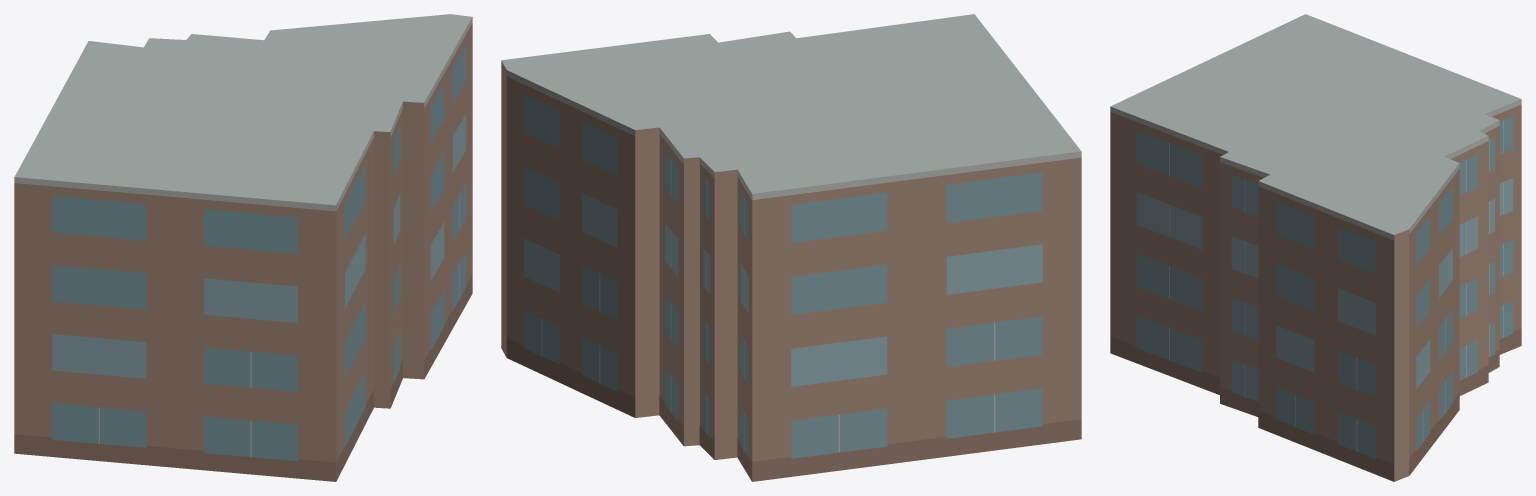
File: survey-upis-32959525.glb
The picture shows the model from 3 angles, left to right: view 1: azimuth 30°, elevation 25°; view 2: azimuth 150°, elevation 25°; view 3: azimuth 270°, elevation 25°; orthographic projection. The views are drawn at different scales.
Visible parts, largest first — view 1: survey-upis-32959525.tmp; view 2: survey-upis-32959525.tmp; view 3: survey-upis-32959525.tmp.
Boxes of the visible parts, bbox=[...] form: survey-upis-32959525.tmp: bbox=[14, 14, 472, 481]; survey-upis-32959525.tmp: bbox=[501, 14, 1081, 481]; survey-upis-32959525.tmp: bbox=[1110, 14, 1521, 481].
Bounding box in the file's own units: 21.82 × 11.35 × 17.16.
